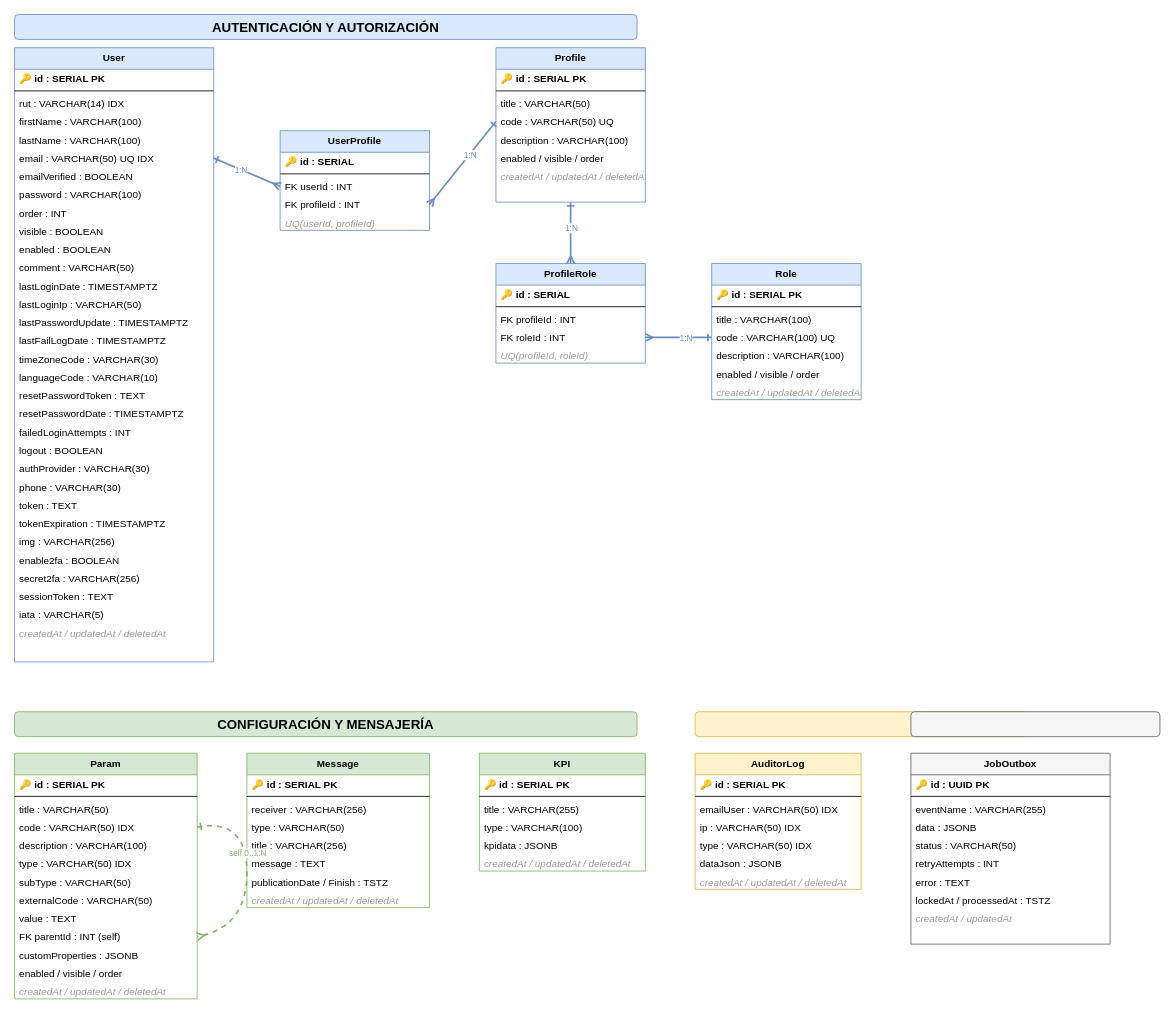
Image size: 1174x1015. Some labels were removed from this diagram. The shapes that lost their labels are listed below. From the top down, each one's centre as x and y in pixels, then its label:
At pixel 860 724: "AUDITORÍA Y TRACKING".
At pixel 1035 724: "INFRAESTRUCTURA".
